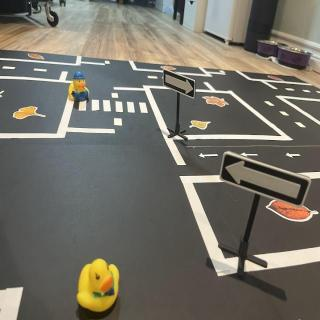duck_regular: (78, 260, 120, 310)
duck_specialty: (68, 70, 92, 103)
road_crosswalk: (78, 95, 153, 117)
road_oneway: (199, 151, 221, 159), (283, 152, 305, 160), (241, 153, 262, 159)
sign_oneway_left: (221, 152, 310, 206)
sign_oneway_right: (164, 72, 198, 101)
